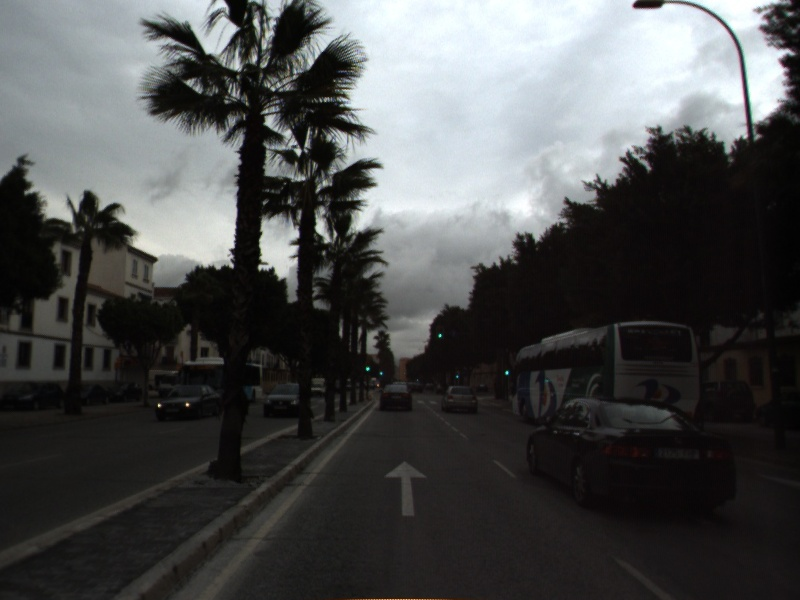STRAIGHT: (382, 459, 430, 518)
